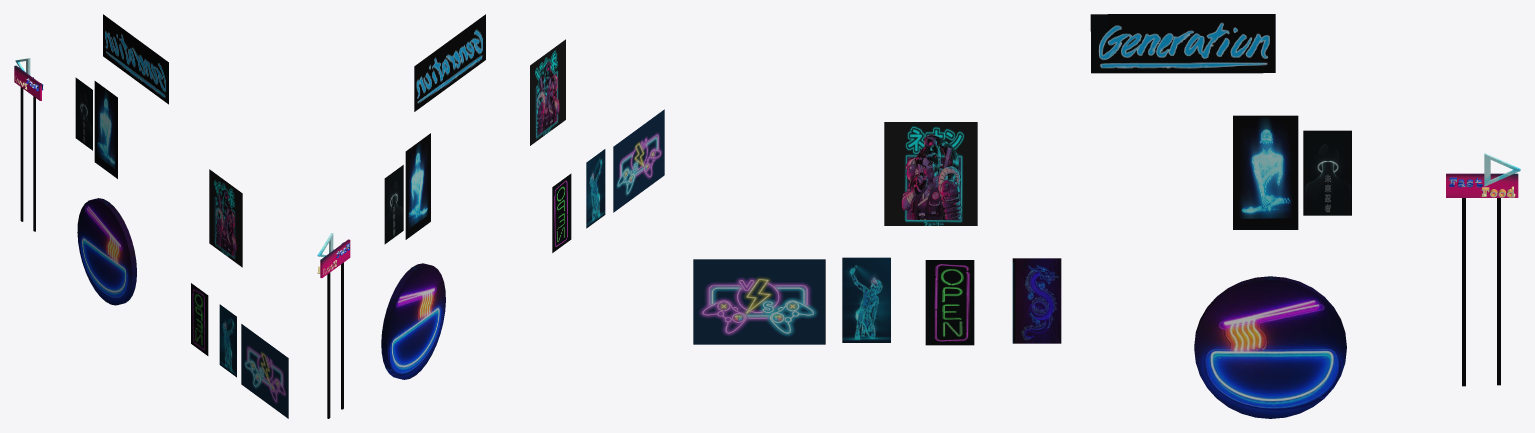
Rendered from Posters.fbx.
3 views of the same model, side by side, from view 1: azimuth 30°, elevation 25°; view 2: azimuth 150°, elevation 25°; view 3: azimuth 270°, elevation 25° (orthographic). The views are drawn at different scales.
Visible parts, largest first — view 1: Circle, Plane.009, Plane.003, Plane.006, Plane.002, Text, Plane.001, Plane.005, Plane.007; view 2: Circle, Plane.009, Plane.003, Plane.006, Plane.002, Text, Plane.005, Plane.001, Plane.007; view 3: Circle, Plane.009, Plane.003, Plane.006, Plane.002, Plane.008, Plane.007, Plane.001, Plane.005, Text.
Part boxes in pixels (x1,y1,x2,y2): Circle: [77, 198, 136, 305]; Plane.009: [241, 324, 288, 418]; Plane.003: [103, 14, 168, 104]; Plane.006: [209, 169, 242, 267]; Plane.002: [94, 81, 117, 178]; Text: [14, 58, 43, 231]; Plane.001: [75, 77, 92, 150]; Plane.005: [219, 304, 236, 377]; Plane.007: [191, 283, 208, 355]; Circle: [381, 263, 445, 379]; Plane.009: [613, 109, 664, 212]; Plane.003: [414, 14, 485, 111]; Plane.006: [530, 39, 565, 145]; Plane.002: [405, 133, 430, 239]; Text: [317, 233, 350, 418]; Plane.005: [586, 149, 605, 228]; Plane.001: [384, 165, 403, 244]; Plane.007: [552, 173, 571, 252]; Circle: [1194, 276, 1346, 418]; Plane.009: [693, 259, 825, 344]; Plane.003: [1090, 14, 1275, 73]; Plane.006: [884, 122, 977, 225]; Plane.002: [1233, 115, 1298, 229]; Plane.008: [1012, 258, 1061, 343]; Plane.007: [925, 260, 974, 345]; Plane.001: [1303, 130, 1351, 215]; Plane.005: [842, 257, 890, 342]; Text: [1446, 153, 1520, 386].
Bounding box in the file's own units: 435 × 4200 × 7853.
